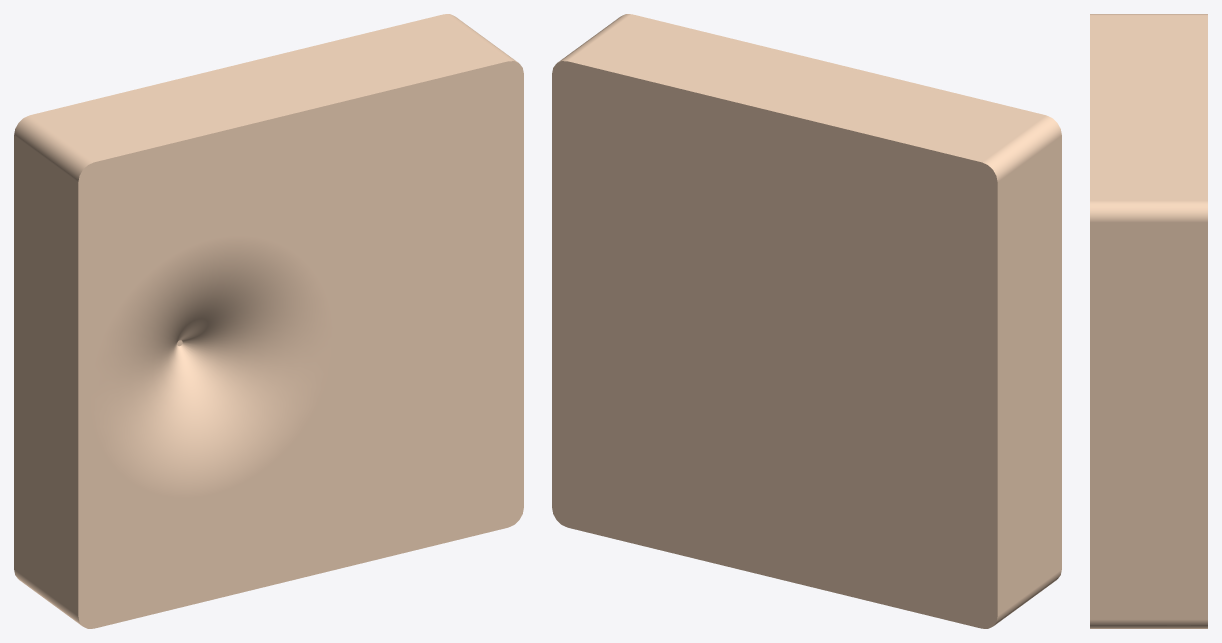
File: Tissue_n40_p0.obj
3 renders of one model, left to right at view 1: azimuth 30°, elevation 25°; view 2: azimuth 150°, elevation 25°; view 3: azimuth 270°, elevation 25°, orthographic. The views are drawn at different scales.
Parts seen in each view (by area): view 1: mesh 1 Tissue_n40_p0; view 2: mesh 1 Tissue_n40_p0; view 3: mesh 1 Tissue_n40_p0.
Part boxes in pixels (<box>): mesh 1 Tissue_n40_p0: <box>14,14,523,628</box>; mesh 1 Tissue_n40_p0: <box>552,14,1061,628</box>; mesh 1 Tissue_n40_p0: <box>1090,14,1207,628</box>.
Size of the model in its own units: 0.2 by 0.2 by 0.05.
